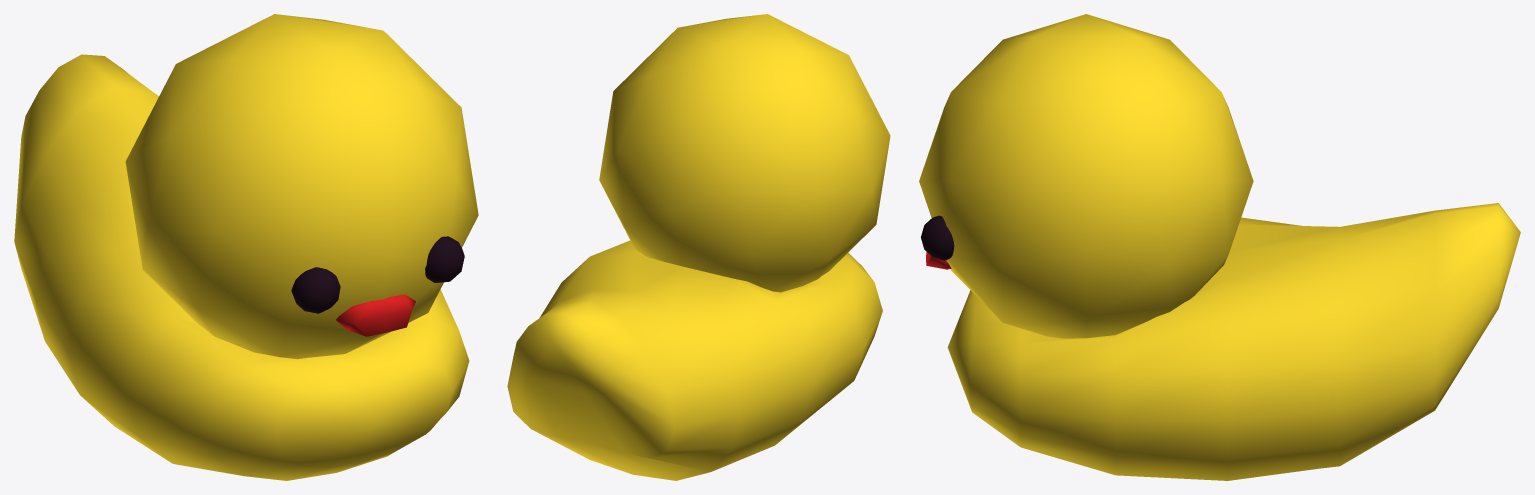
Rendered from F_RubberDucky_01.fbx.
3 renders of one model, left to right at view 1: azimuth 30°, elevation 25°; view 2: azimuth 150°, elevation 25°; view 3: azimuth 270°, elevation 25°, orthographic. The views are drawn at different scales.
Parts seen in each view (by area): view 1: F_RubberDucky_01; view 2: F_RubberDucky_01; view 3: F_RubberDucky_01.
Part boxes in pixels (x1=…): F_RubberDucky_01: x1=14, y1=14, x2=478, y2=480; F_RubberDucky_01: x1=507, y1=14, x2=890, y2=480; F_RubberDucky_01: x1=919, y1=14, x2=1520, y2=480.
Bounding box in the file's own units: 32.1 × 42.93 × 55.75.
